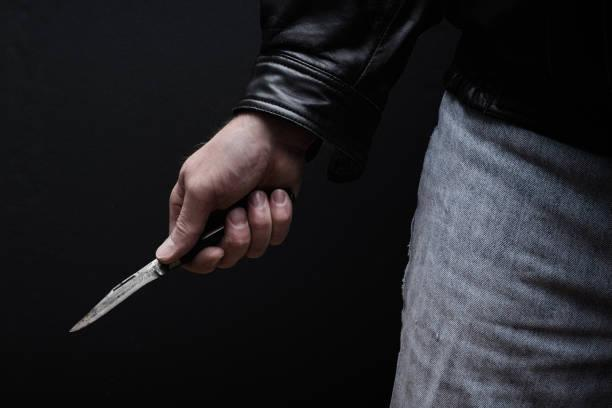Knife: (157, 0, 612, 408), (167, 143, 296, 266), (69, 255, 192, 335)
